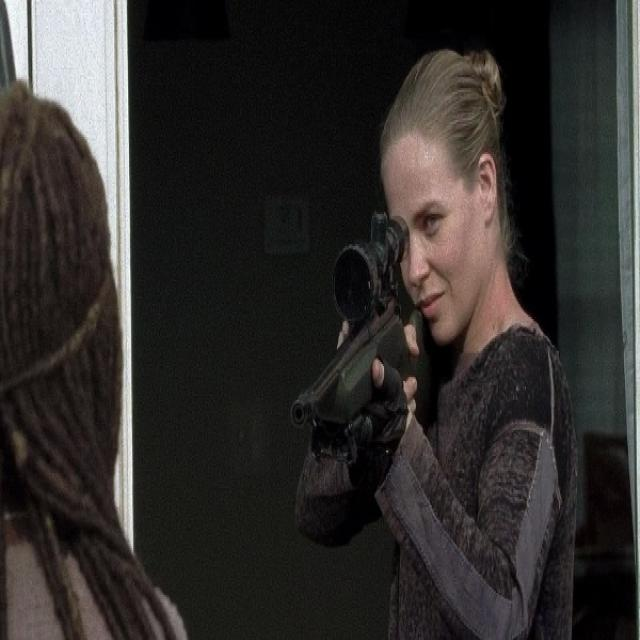rifle: (287, 204, 431, 478)
